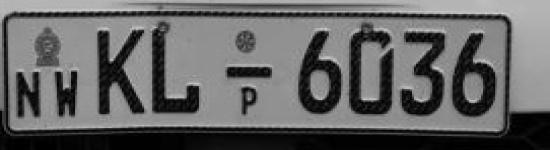-: (219, 64, 279, 83)
0: (345, 25, 397, 122)
3: (397, 23, 449, 122)
6: (449, 26, 502, 122), (292, 26, 345, 119)
K: (93, 23, 149, 116)
L: (145, 22, 208, 118)
N: (13, 68, 44, 119)
W: (51, 67, 85, 121)
